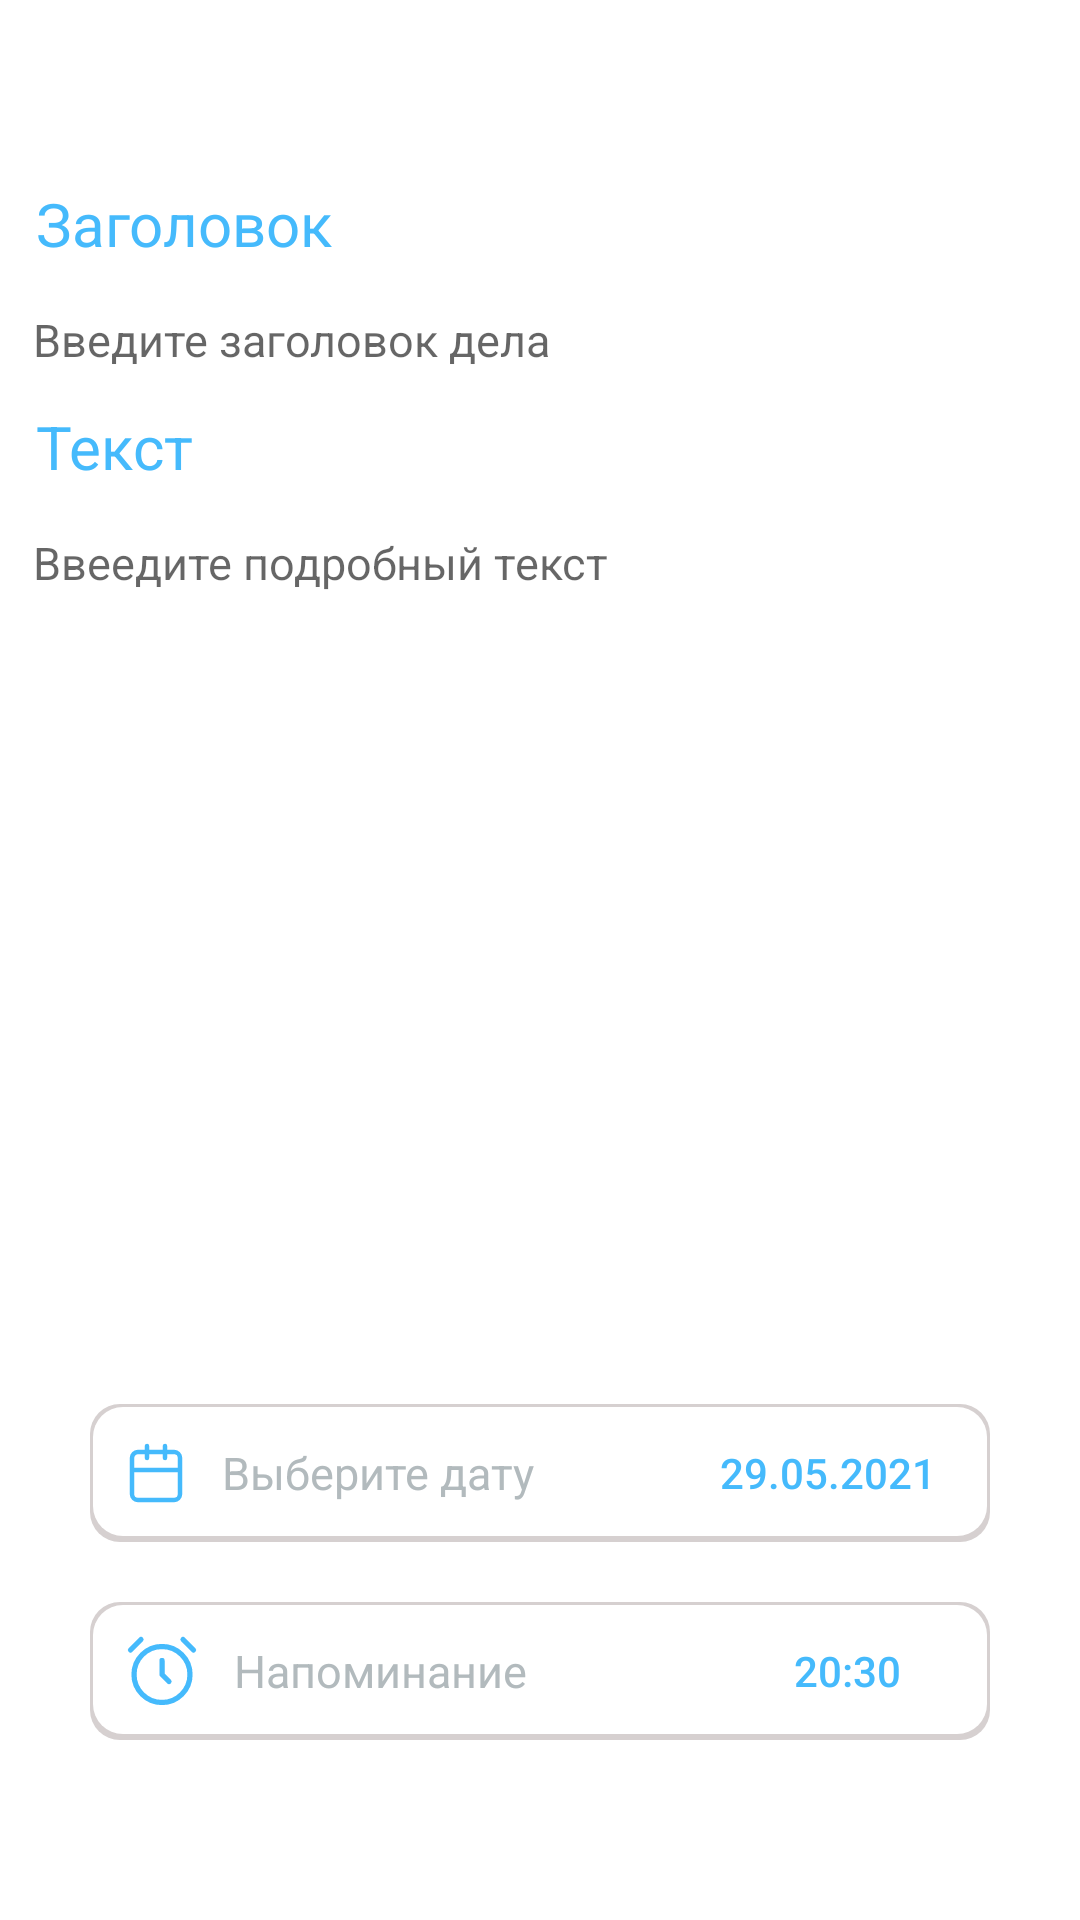

Named icons in this screenshot (1080w x 1920h) and their bounding boxes, (x1, y1, x2, y2):
alarm: (128, 1636, 196, 1705)
calendar: (129, 1444, 183, 1503)
